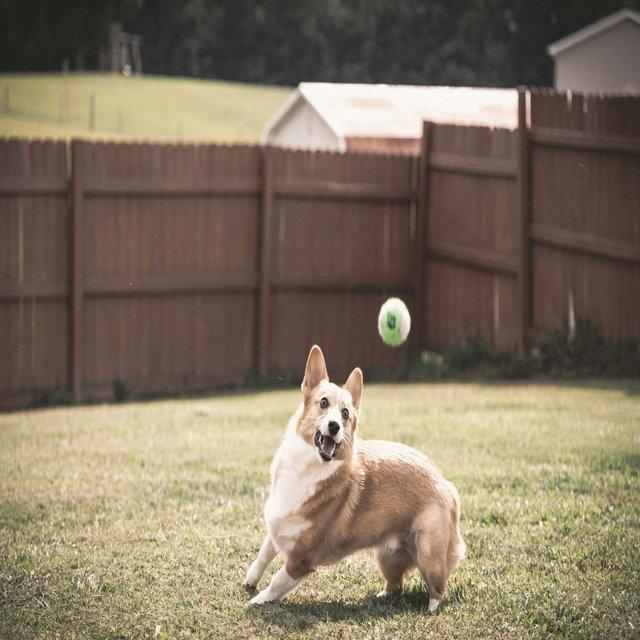corgi: (242, 343, 466, 615)
